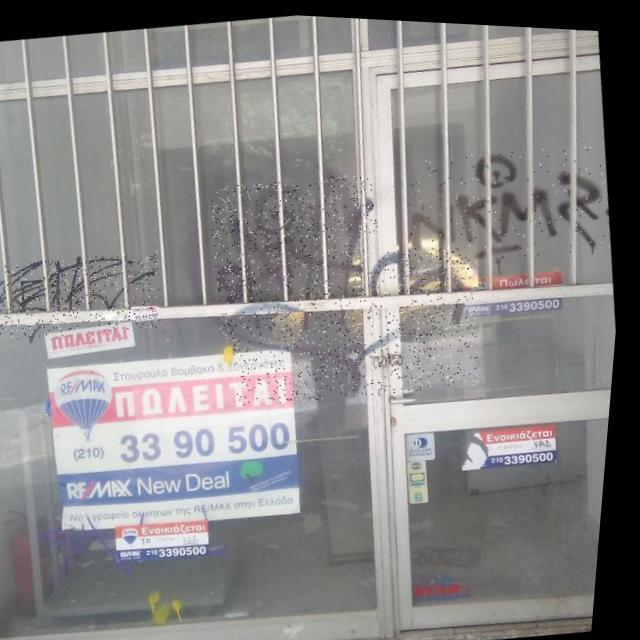-: (224, 228, 494, 414), (203, 163, 398, 343), (401, 128, 622, 273), (0, 242, 171, 352)
